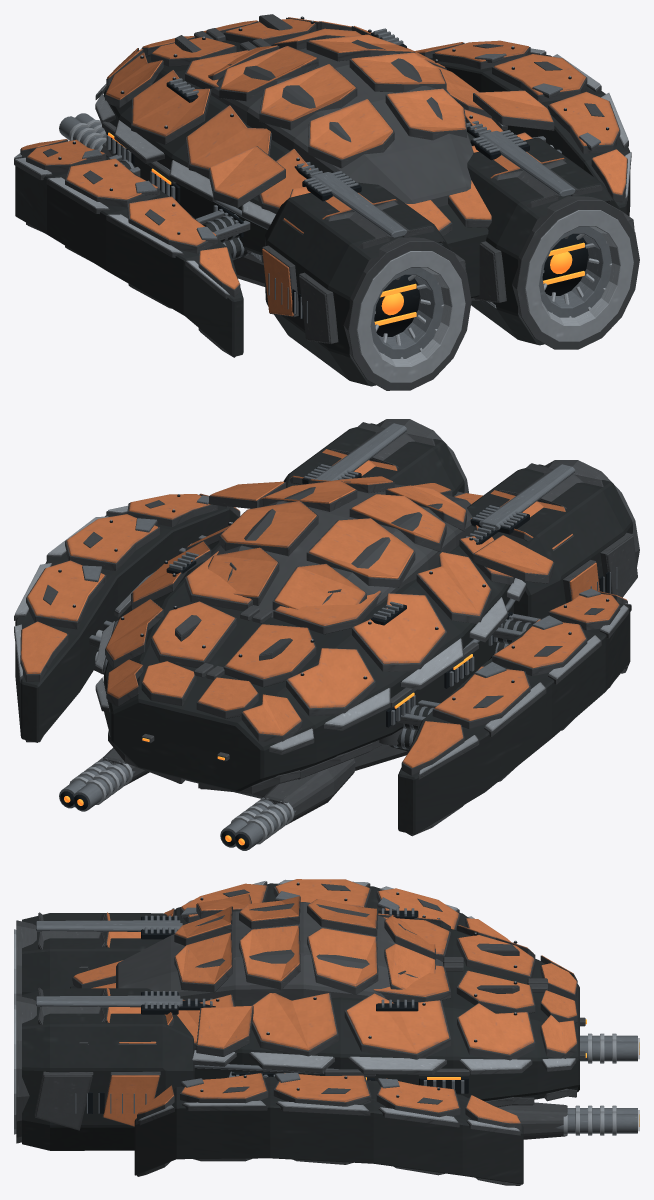
Rendered from warden.glb.
The picture shows the model from 3 angles, top to bottom: view 1: azimuth 30°, elevation 25°; view 2: azimuth 150°, elevation 25°; view 3: azimuth 270°, elevation 25°; orthographic projection. The views are drawn at different scales.
Parts seen in each view (by area): view 1: Warden.001; view 2: Warden.001; view 3: Warden.001.
Part boxes in pixels (x1,y1,x2,y2): Warden.001: (14,14,639,390); Warden.001: (14,419,639,850); Warden.001: (14,879,639,1185).
Size of the model in its own units: 8.32 by 3.48 by 9.64.
Materials: 7 (7 with a texture image).
